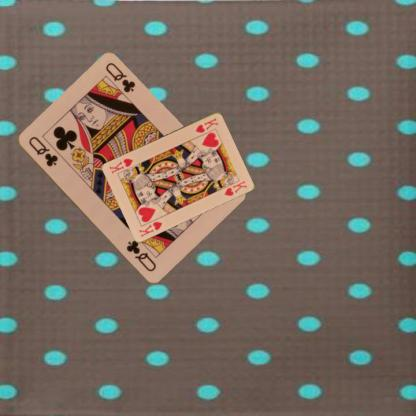Kh: (136, 218, 164, 238), (193, 115, 220, 134)
Qc: (25, 134, 59, 168)
